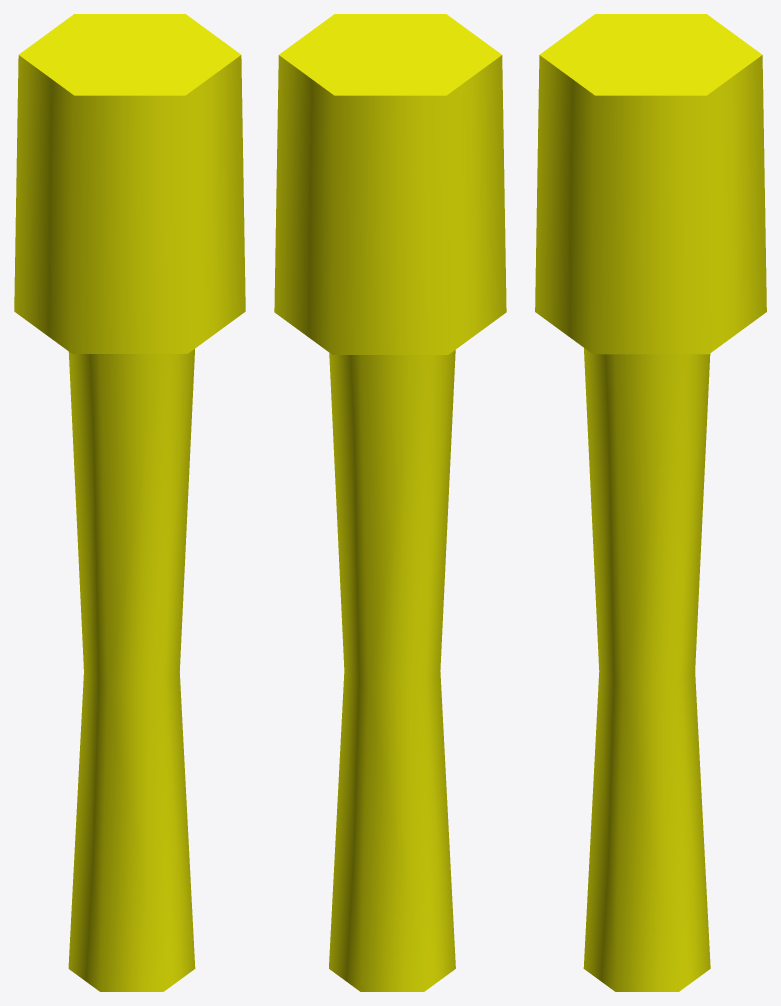
Rendered from projectile_grenade_german.glb.
The picture shows the model from 3 angles, left to right: view 1: azimuth 30°, elevation 25°; view 2: azimuth 150°, elevation 25°; view 3: azimuth 270°, elevation 25°; orthographic projection.
Parts seen in each view (by area): view 1: projectile_grenade_german; view 2: projectile_grenade_german; view 3: projectile_grenade_german.
Part boxes in pixels (box(x1,y1,x2,y2)): projectile_grenade_german: box(14, 14, 245, 991); projectile_grenade_german: box(274, 14, 506, 991); projectile_grenade_german: box(535, 14, 766, 991).
Size of the model in its own units: 0.1527 by 0.767 by 0.1763.
Materials: 1 (1 with a texture image).
